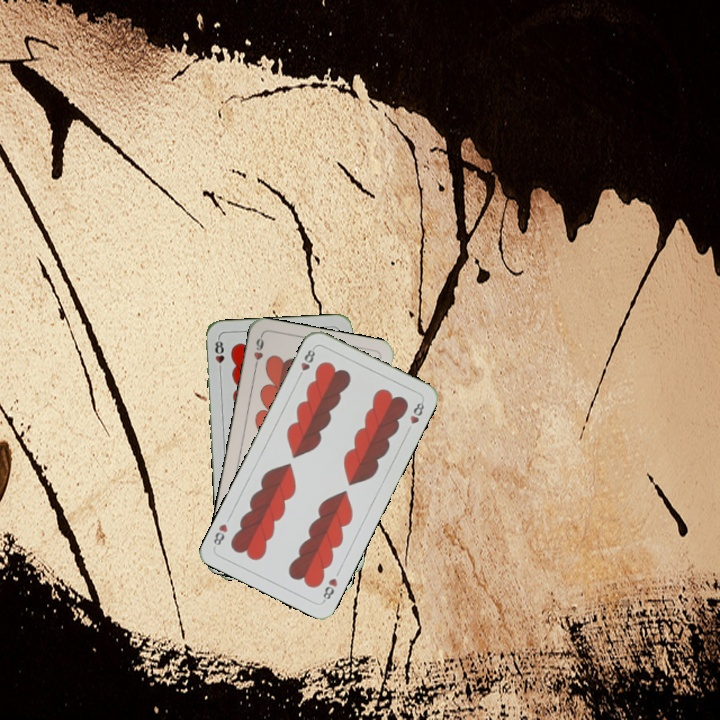H8: (294, 344, 318, 382), (211, 335, 227, 375), (319, 574, 340, 604)
H9: (249, 332, 266, 372)
